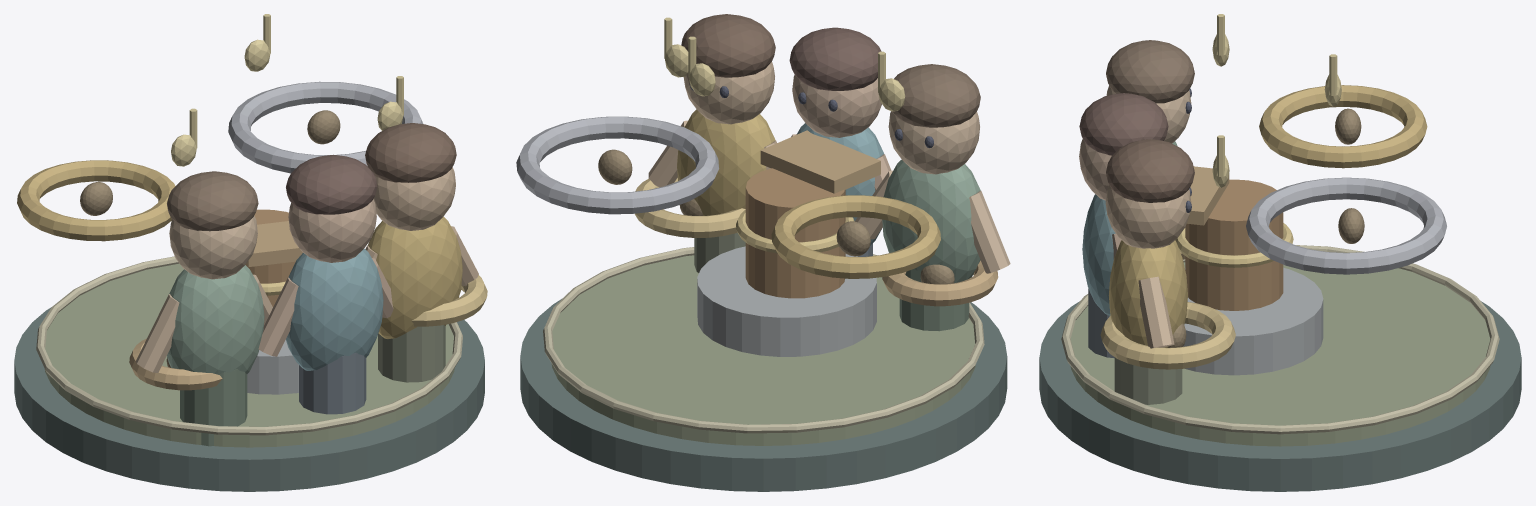
The model's file is the-clockmakers-garden-scene-2.glb.
3 views of the same model, side by side, from view 1: azimuth 30°, elevation 25°; view 2: azimuth 150°, elevation 25°; view 3: azimuth 270°, elevation 25° (orthographic). The views are drawn at different scales.
Visible parts, largest first — view 1: deep water plinth, shore or habitat, Glass blower coat, Ivo coat, Bee keeper coat, gears puzzle 0, outer waterline, gears puzzle 1, Glass blower hair, Ivo hair, Bee keeper hair, Glass blower face (+18 smaller); view 2: shore or habitat, deep water plinth, opened fountain, gears puzzle 1, gears puzzle 0, exposed music box, outer waterline, Ivo coat, Bee keeper coat, Glass blower hair, open music box lid, Bee keeper hair (+19 smaller); view 3: shore or habitat, deep water plinth, gears puzzle 1, exposed music box, opened fountain, gears puzzle 0, outer waterline, Bee keeper coat, Bee keeper hair, Ivo hair, gears puzzle 2, Glass blower hair (+11 smaller).
Boxes of the visible parts, box(x1,y1,x2,y2) form: deep water plinth: box(14, 307, 484, 491); shore or habitat: box(44, 263, 454, 447); Glass blower coat: box(286, 248, 383, 370); Ivo coat: box(167, 265, 264, 374); Bee keeper coat: box(367, 216, 462, 338); gears puzzle 0: box(17, 160, 175, 241); outer waterline: box(36, 256, 462, 435); gears puzzle 1: box(228, 81, 423, 173); Glass blower hair: box(286, 154, 377, 214); Ivo hair: box(167, 171, 258, 231); Bee keeper hair: box(365, 123, 456, 182); Glass blower face: box(288, 199, 376, 262); shore or habitat: box(551, 255, 975, 445); deep water plinth: box(520, 298, 1007, 491); opened fountain: box(697, 246, 876, 356); gears puzzle 1: box(516, 116, 719, 214); gears puzzle 0: box(771, 195, 940, 278); exposed music box: box(745, 168, 845, 298); outer waterline: box(543, 247, 984, 433); Ivo coat: box(882, 159, 980, 283); Bee keeper coat: box(677, 109, 775, 215); Glass blower hair: box(789, 27, 881, 90); open music box lid: box(760, 130, 880, 193); Bee keeper hair: box(681, 14, 775, 77); shore or habitat: box(1070, 262, 1490, 446); deep water plinth: box(1039, 301, 1521, 491); gears puzzle 1: box(1246, 177, 1446, 274); exposed music box: box(1185, 179, 1283, 310); opened fountain: box(1183, 267, 1323, 375); gears puzzle 0: box(1259, 85, 1427, 168); outer waterline: box(1061, 245, 1499, 434); Bee keeper coat: box(1109, 240, 1187, 347); Bee keeper hair: box(1106, 139, 1194, 202); Ivo hair: box(1106, 40, 1194, 103); gears puzzle 2: box(1100, 302, 1235, 369); Glass blower hair: box(1079, 93, 1168, 155).
Bounding box in the file's own units: 0.7592 × 0.6188 × 0.7592.
